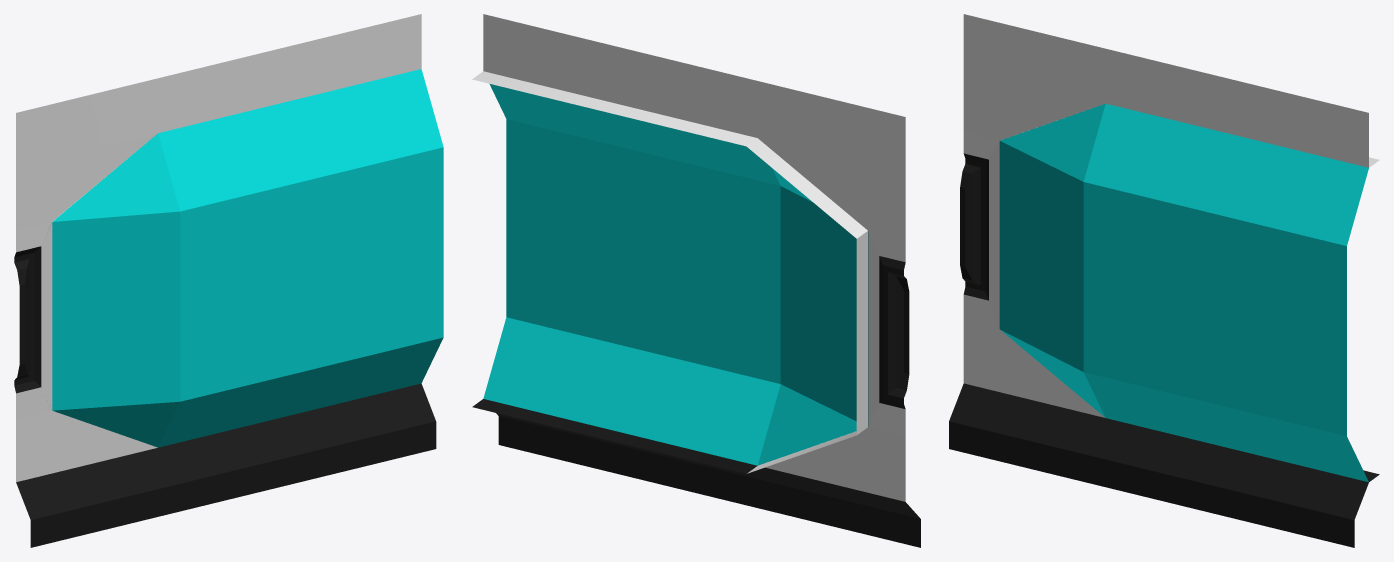
The model's file is base_window_edge_left_02.FBX.
3 renders of one model, left to right at view 1: azimuth 30°, elevation 25°; view 2: azimuth 150°, elevation 25°; view 3: azimuth 330°, elevation 25°, orthographic. The views are drawn at different scales.
Parts seen in each view (by area): view 1: base_window_edge_left_02; view 2: base_window_edge_left_02; view 3: base_window_edge_left_02.
Part boxes in pixels (x1=…): base_window_edge_left_02: x1=14, y1=14, x2=443, y2=547; base_window_edge_left_02: x1=472, y1=14, x2=920, y2=547; base_window_edge_left_02: x1=949, y1=14, x2=1379, y2=547.
Bounding box in the file's own units: 400 × 400 × 56.34.
